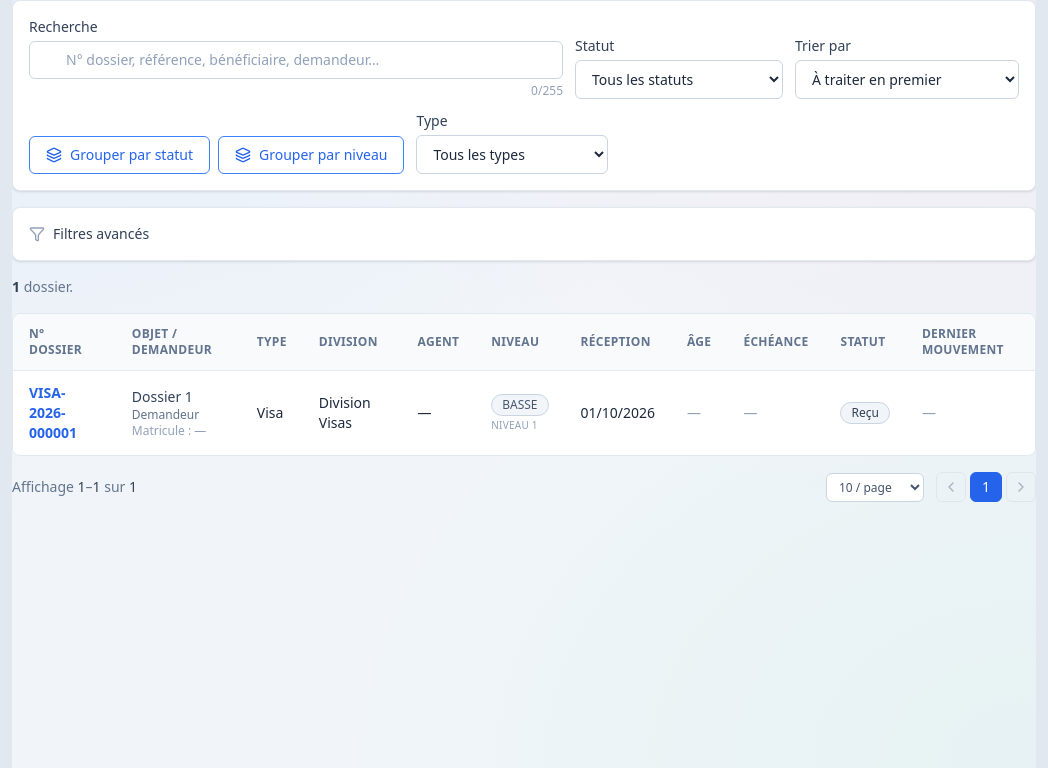
Test: Liste des dossiers — regroupement par niveau › ne crée aucune section pour un niveau absent
Expected: the link "VISA-2026-000001" is shown, [29, 383, 77, 442]
Click the button "Grouper par niveau" at {"x": 311, "y": 155}, box [218, 136, 404, 174]
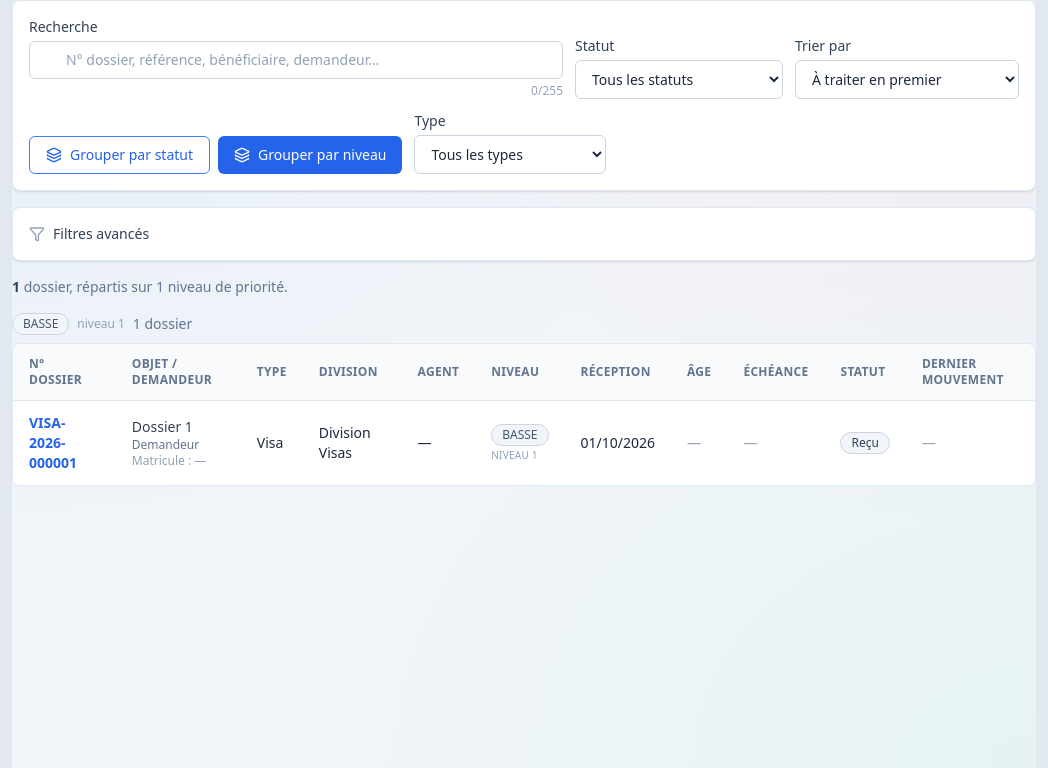
Result: the element named "Dossiers BASSE" is shown at [12, 313, 1036, 486]
